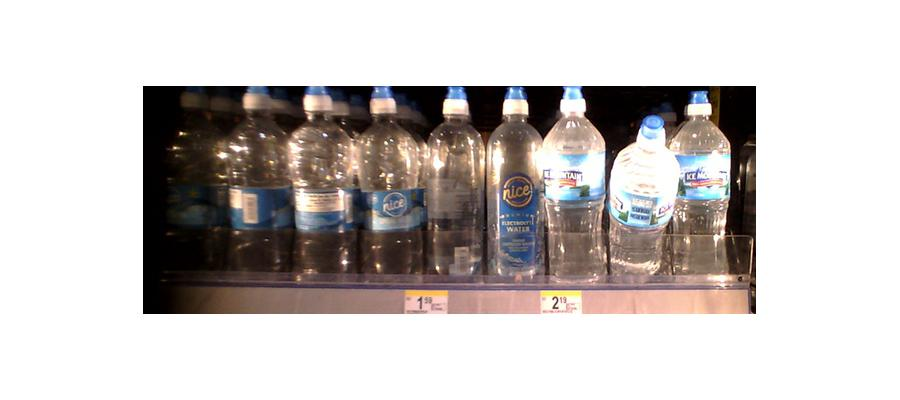bottle: (287, 83, 359, 280), (220, 81, 288, 277), (543, 91, 608, 285), (423, 91, 487, 282), (609, 110, 678, 281), (359, 87, 421, 275), (488, 91, 547, 282), (674, 92, 732, 277)
